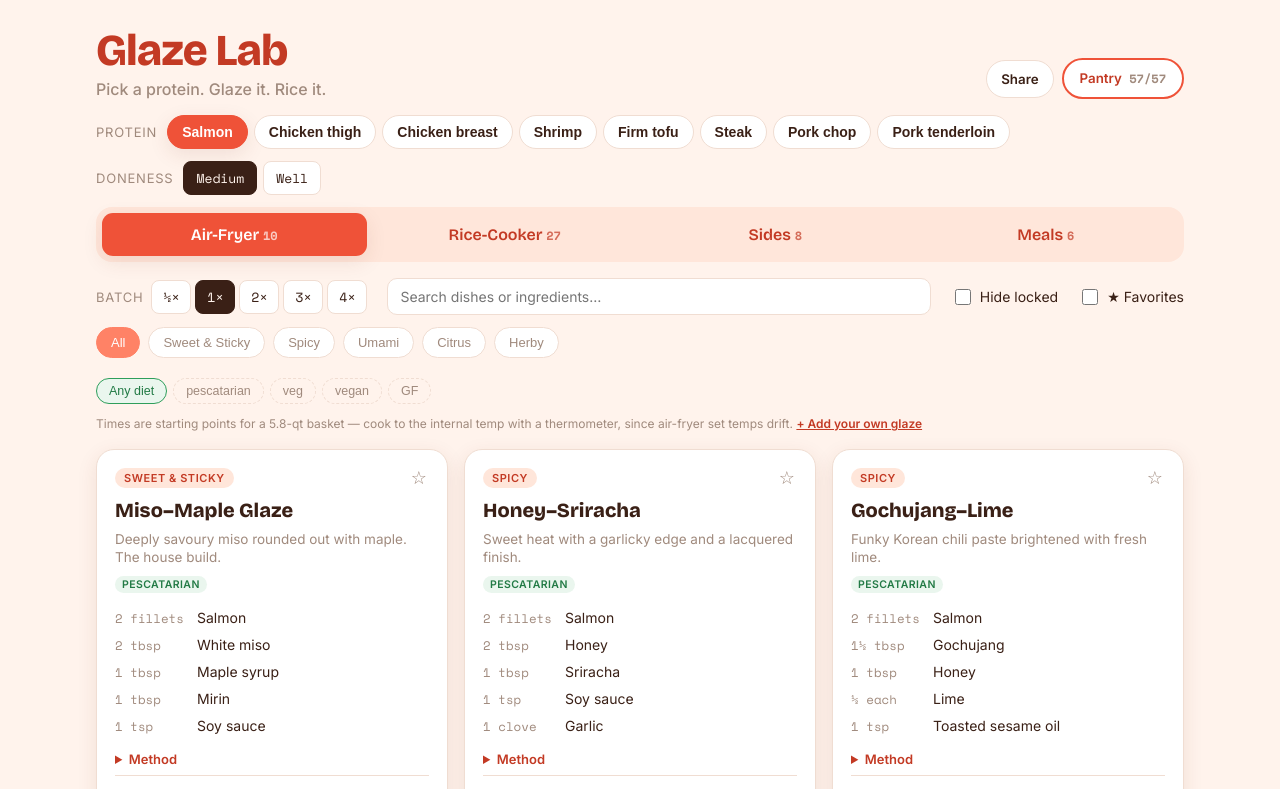
Test: Glaze Lab app › favorites a dish and filters to favorites only
Click the 1st button with class "fav": (419,478) [409, 469, 429, 487]
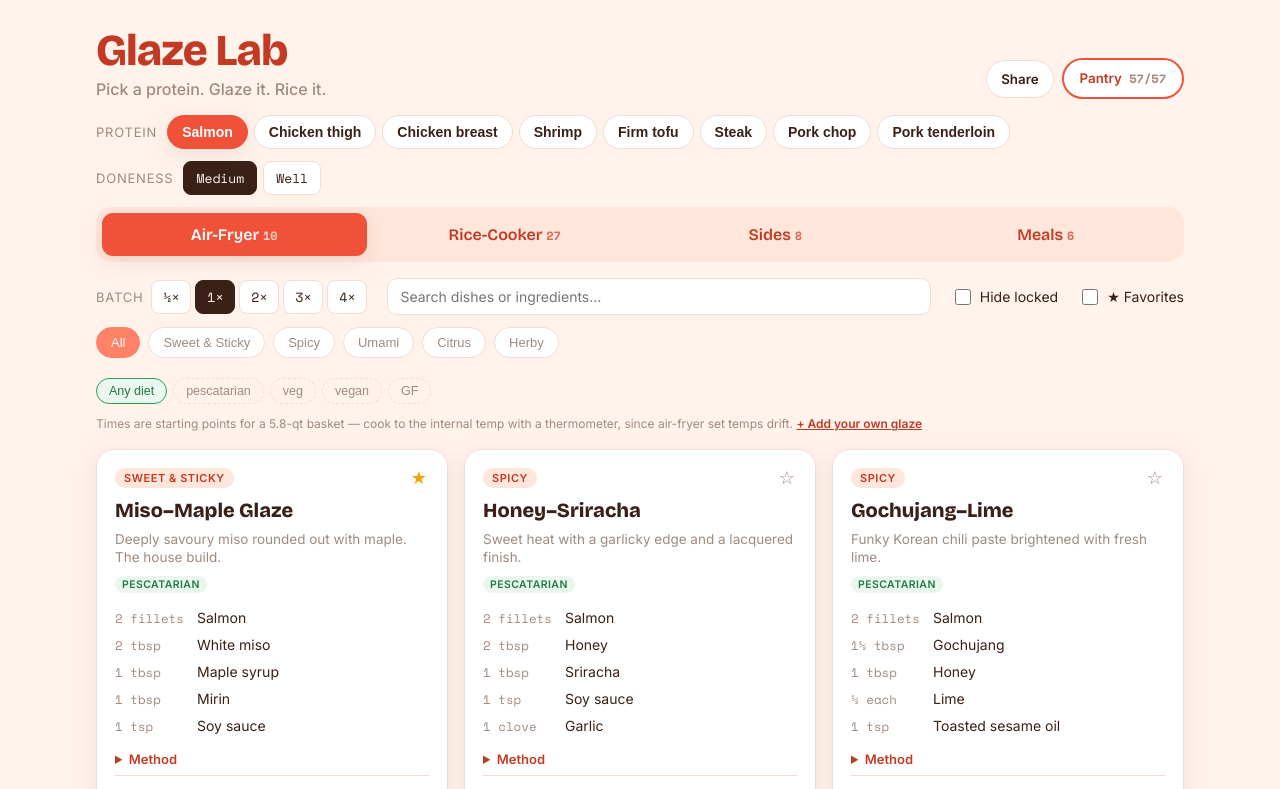
Click the checkbox labelled "★ Favorites": (1090,296) [1082, 288, 1098, 304]
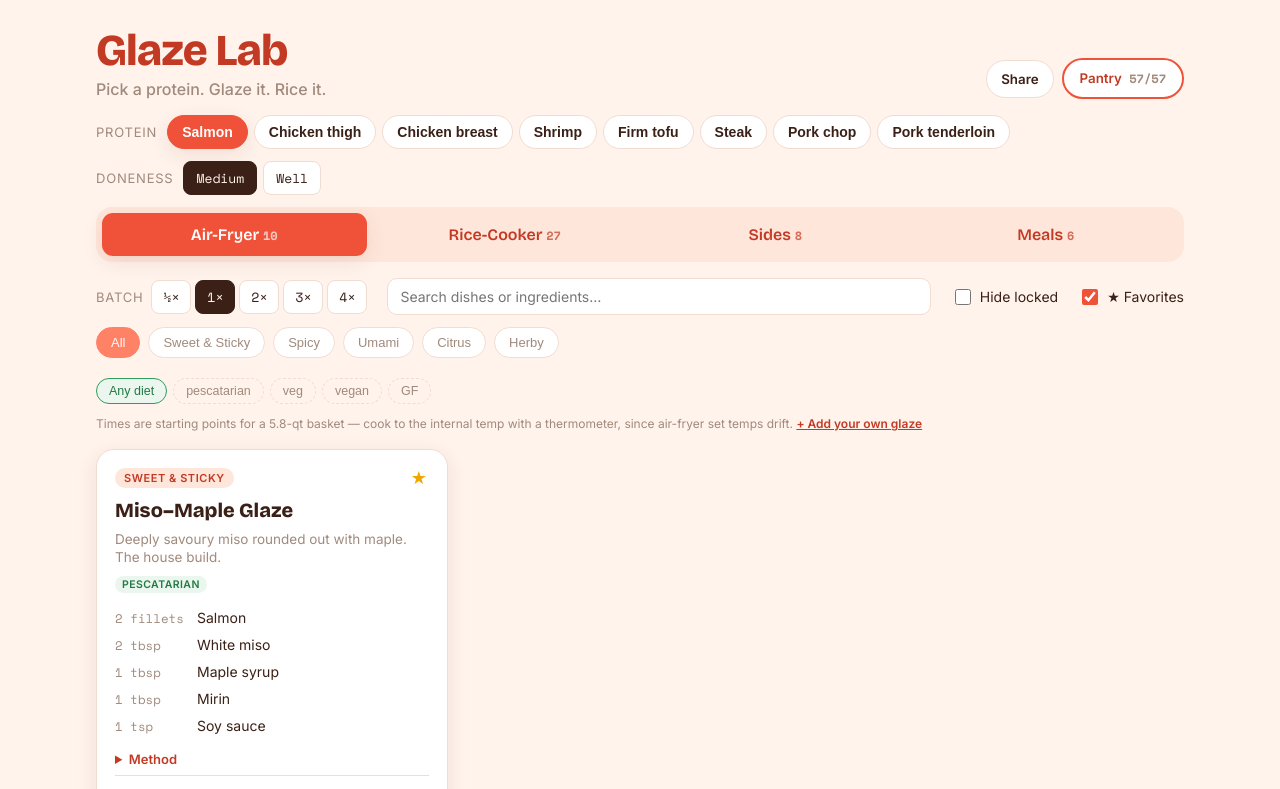
Check: the heading "Miso–Maple Glaze" is shown, box [115, 498, 293, 522]
Check: the heading "Honey–Sriracha" is gone
